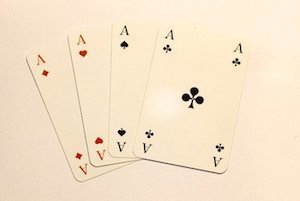AceOfClubs: (141, 24, 247, 178)
AceOfDiamonds: (25, 40, 79, 186)
AceOfHearts: (76, 29, 112, 178)
AceOfSpades: (105, 24, 140, 158)
